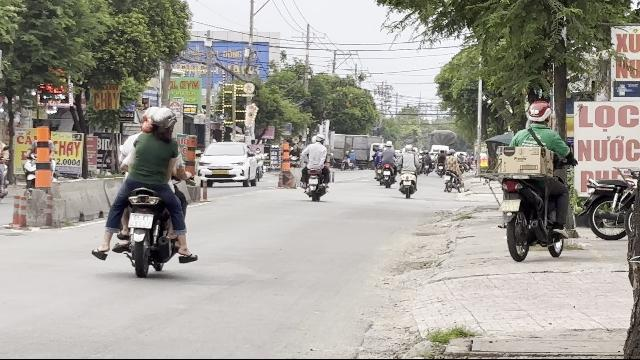helmet: (149, 106, 177, 138), (526, 100, 552, 126), (140, 108, 156, 132)
licenseplate: (128, 212, 154, 230), (500, 199, 520, 211)
motorcyclist: (96, 100, 196, 276), (492, 98, 572, 262)
